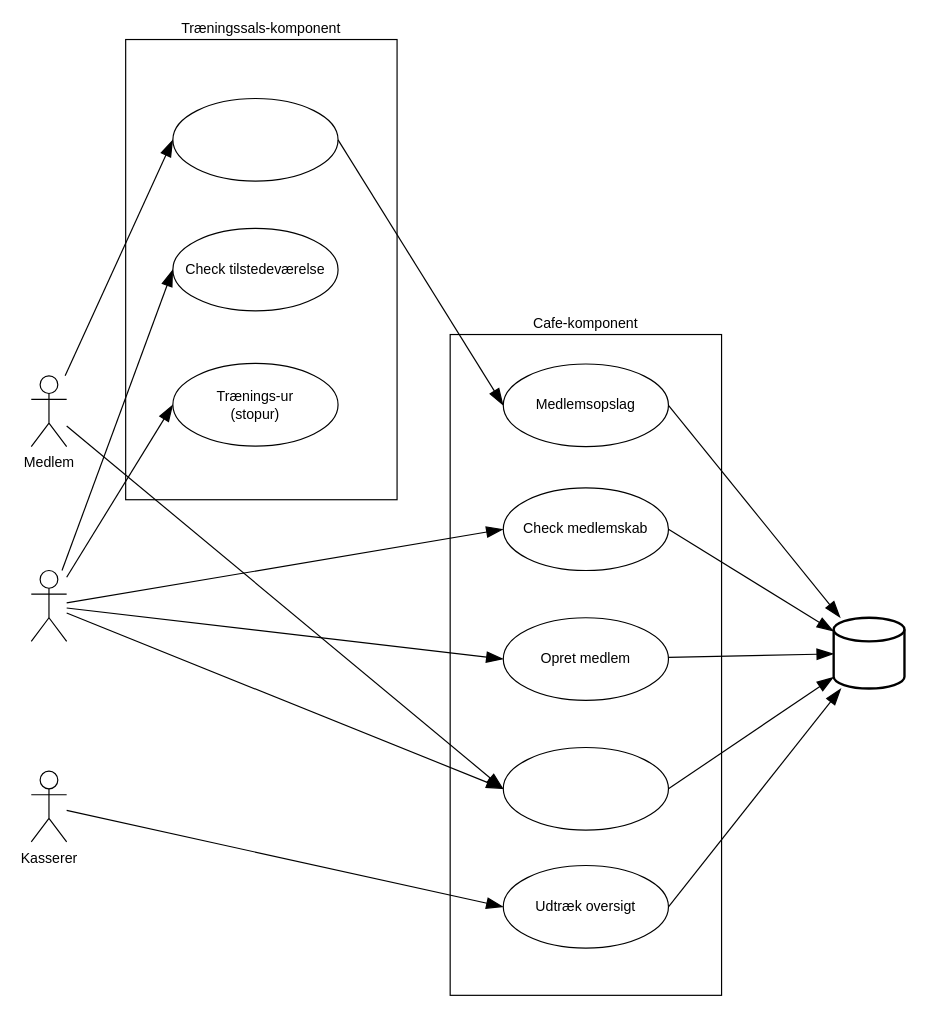
Image size: 925x1016. Some labels were removed from this diagram. Each missing label, with the centre of its shape:
"Cafe-handl" belongs at pixel 585 788.
"Check-in" belongs at pixel 255 139.
"Database" belongs at pixel 868 652.
"Træner" belongs at pixel 48 605.
